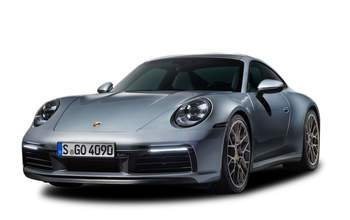number_plate: (56, 140, 118, 160)
